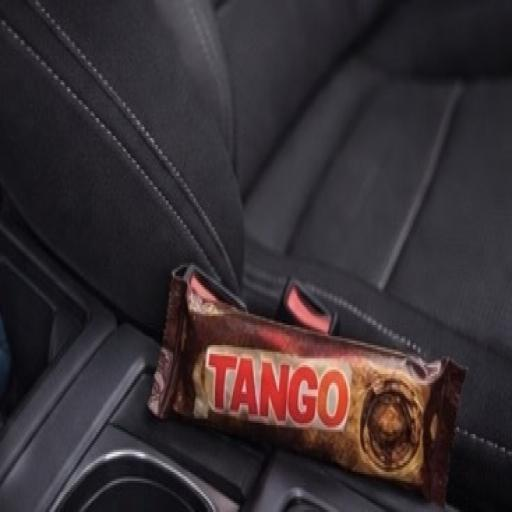tango: (97, 173, 481, 512)
